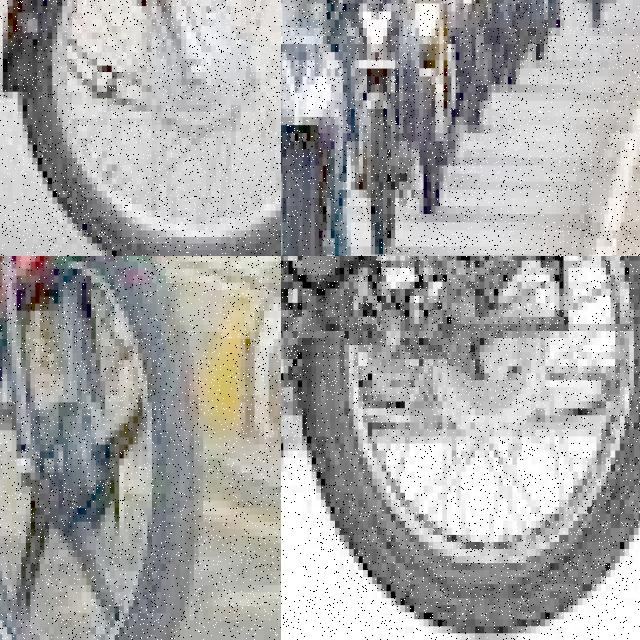bike: (281, 256, 640, 640), (0, 256, 203, 640), (0, 0, 281, 256), (281, 0, 354, 256), (354, 0, 407, 256), (415, 0, 463, 214), (496, 0, 528, 84)
